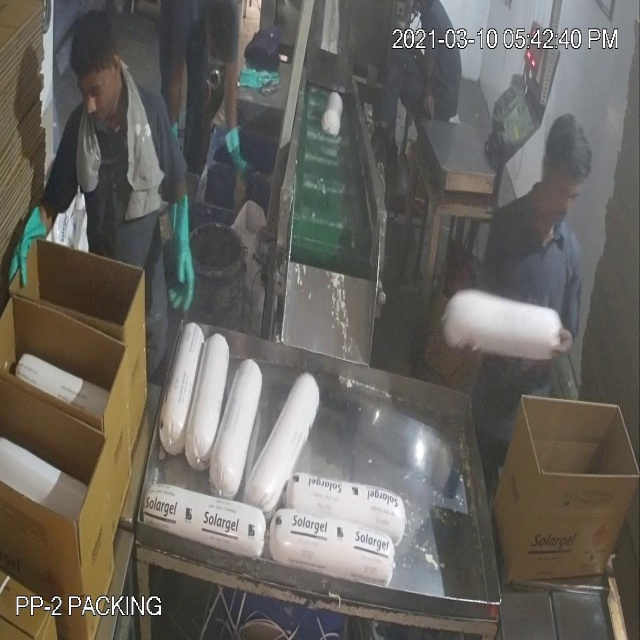Guantes: (152, 173, 199, 316), (13, 189, 60, 313)
